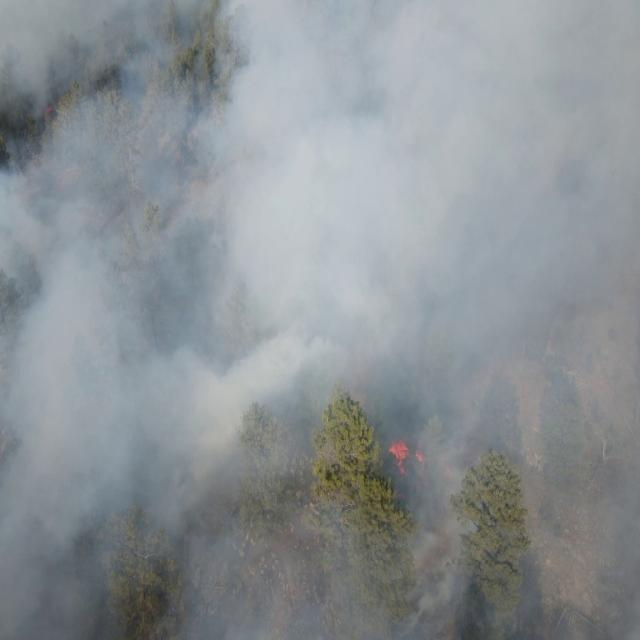fire: (436, 450, 456, 484), (389, 438, 408, 470), (414, 449, 429, 469), (44, 100, 58, 118)
smoke: (0, 2, 640, 640)
